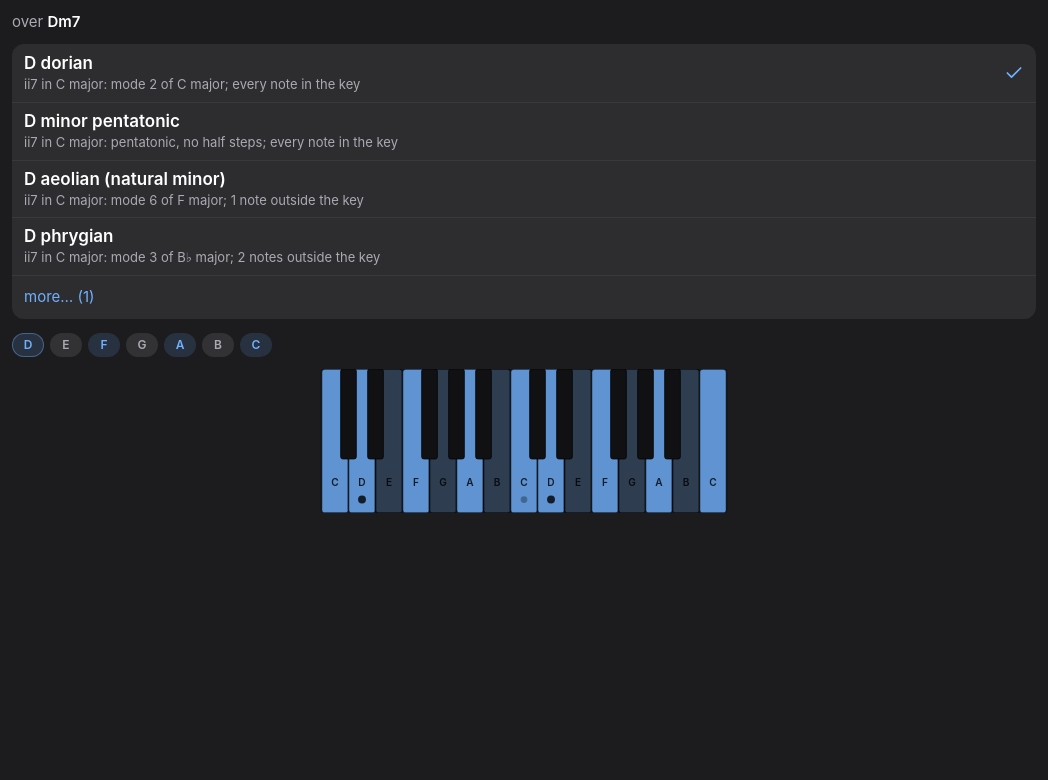
Test: ScaleHelper › ranks scales for Dm7 in C with dorian first, top 4 then "more…"
The width and height of the screenshot is (1048, 780).
Expected: the number of radio buttons is 4, 12,44 -> 1036,102; 12,102 -> 1036,160; 12,160 -> 1036,217; 12,217 -> 1036,275
Expected: the radio button with aria-label "D dorian" shows "D dorian", 12,44 -> 1036,102
Click the button "more… (1)".
click(59, 296)  # box 12,275 -> 1036,319
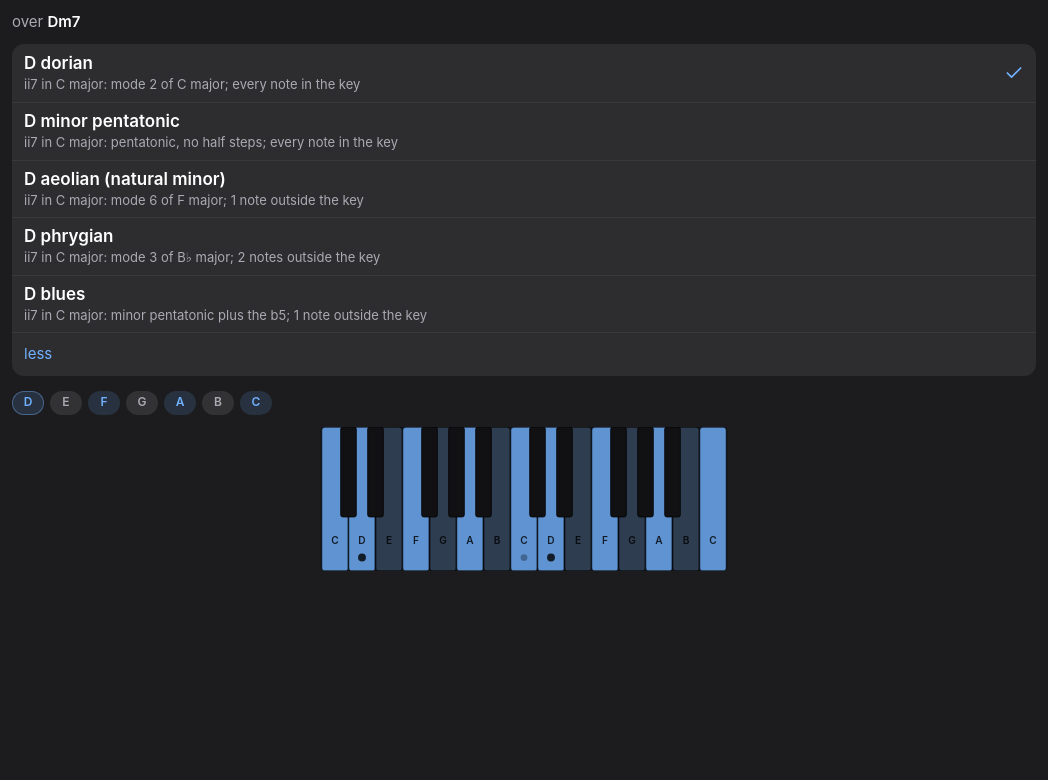
Click the button "less".
click(38, 354)  # box 12,332 -> 1036,376
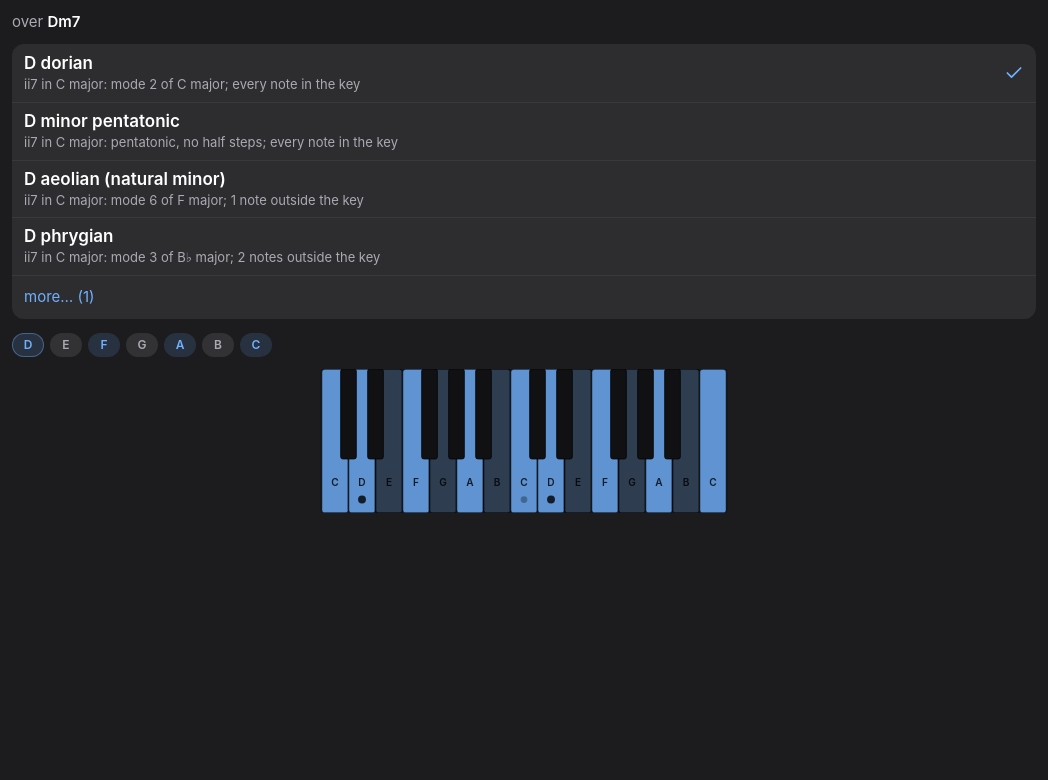
Result: the number of radio buttons is 4 at 12,44 -> 1036,102; 12,102 -> 1036,160; 12,160 -> 1036,217; 12,217 -> 1036,275
